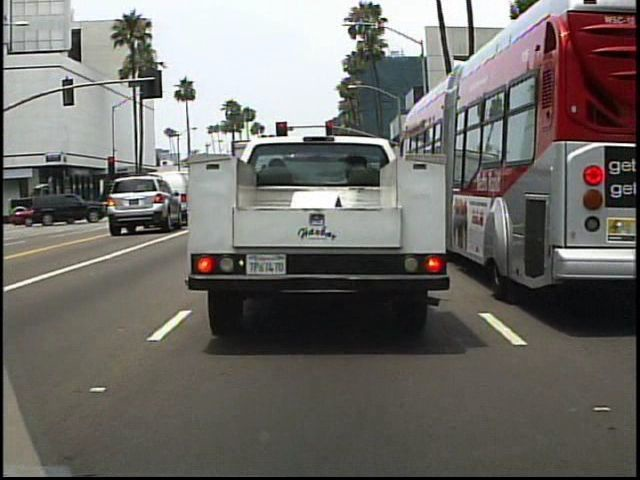person: (28, 194, 48, 227)
